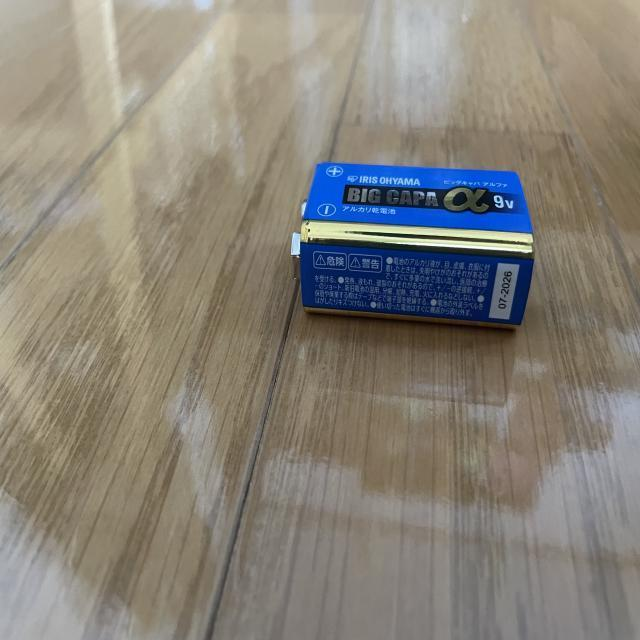9V: (289, 162, 535, 335)
